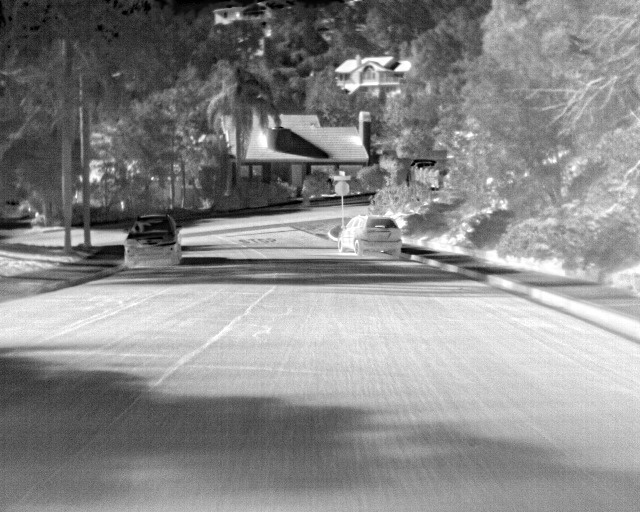vehicle: (124, 213, 183, 271), (338, 214, 403, 261)
